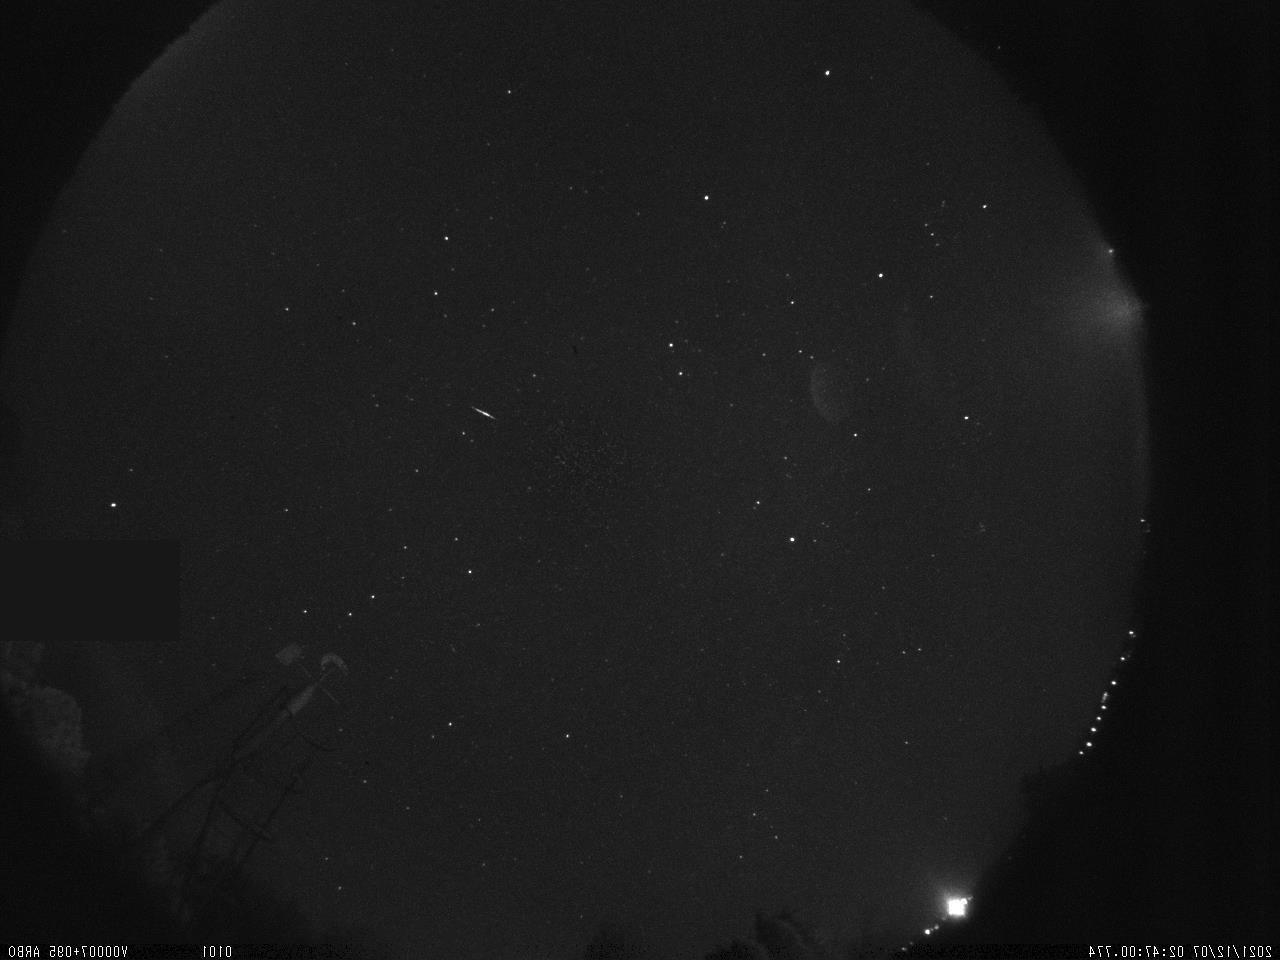meteor: (459, 398, 499, 432)
